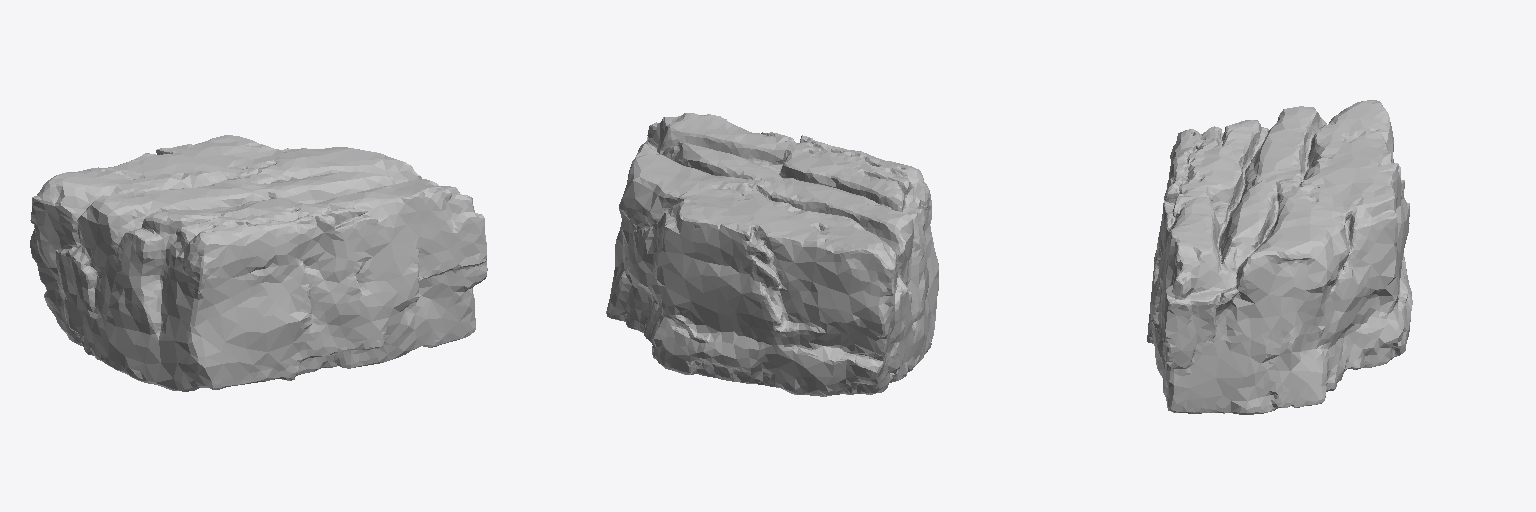
The model's file is stone_1.obj.
3 renders of one model, left to right at view 1: azimuth 30°, elevation 25°; view 2: azimuth 150°, elevation 25°; view 3: azimuth 270°, elevation 25°, orthographic.
Parts seen in each view (by area): view 1: Aset_nature_rock_M_uisjbbis_LOD0; view 2: Aset_nature_rock_M_uisjbbis_LOD0; view 3: Aset_nature_rock_M_uisjbbis_LOD0.
Boxes of the visible parts, <box> form: Aset_nature_rock_M_uisjbbis_LOD0: <box>30,135,487,391</box>; Aset_nature_rock_M_uisjbbis_LOD0: <box>606,113,938,396</box>; Aset_nature_rock_M_uisjbbis_LOD0: <box>1147,100,1412,414</box>.
Size of the model in its own units: 1.19 by 0.5245 by 0.7829.